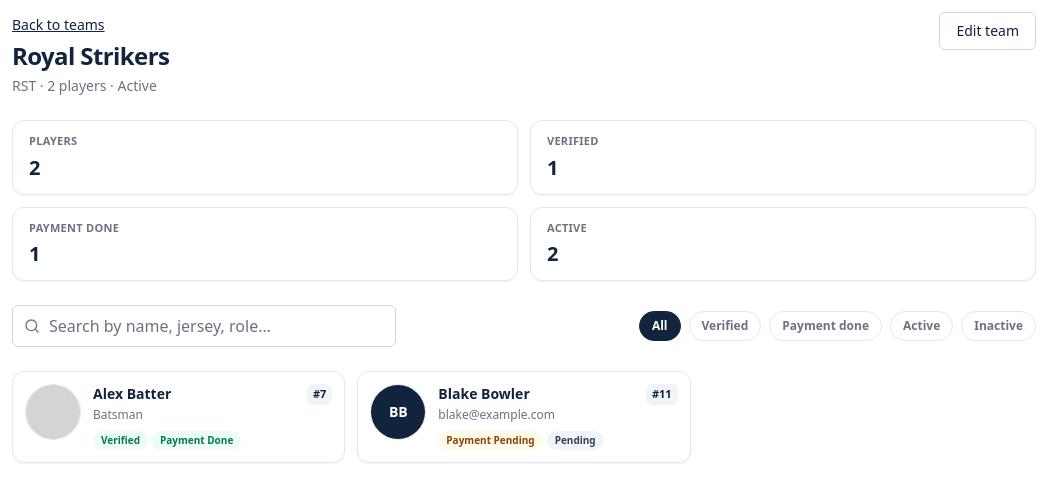
TeamRosterPage › renders player cards with verification tags and filters by search
The image size is (1048, 480).
Expected: the heading "Royal Strikers" is shown, [12,40,169,72]
Expected: the heading "Alex Batter" is shown, [93,384,171,404]
Type "Blake" into the field with placeholder "Search by name, jersey, role…" at (204, 326), box [12,305,396,347]
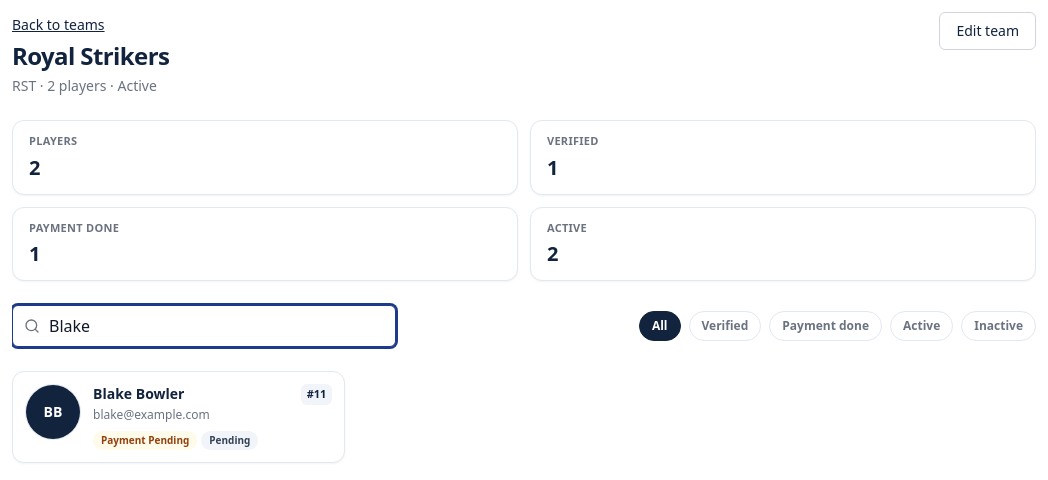
Expected: the heading "Blake Bowler" is shown, [93,384,184,404]
Expected: the link "Alex Batter" is gone
